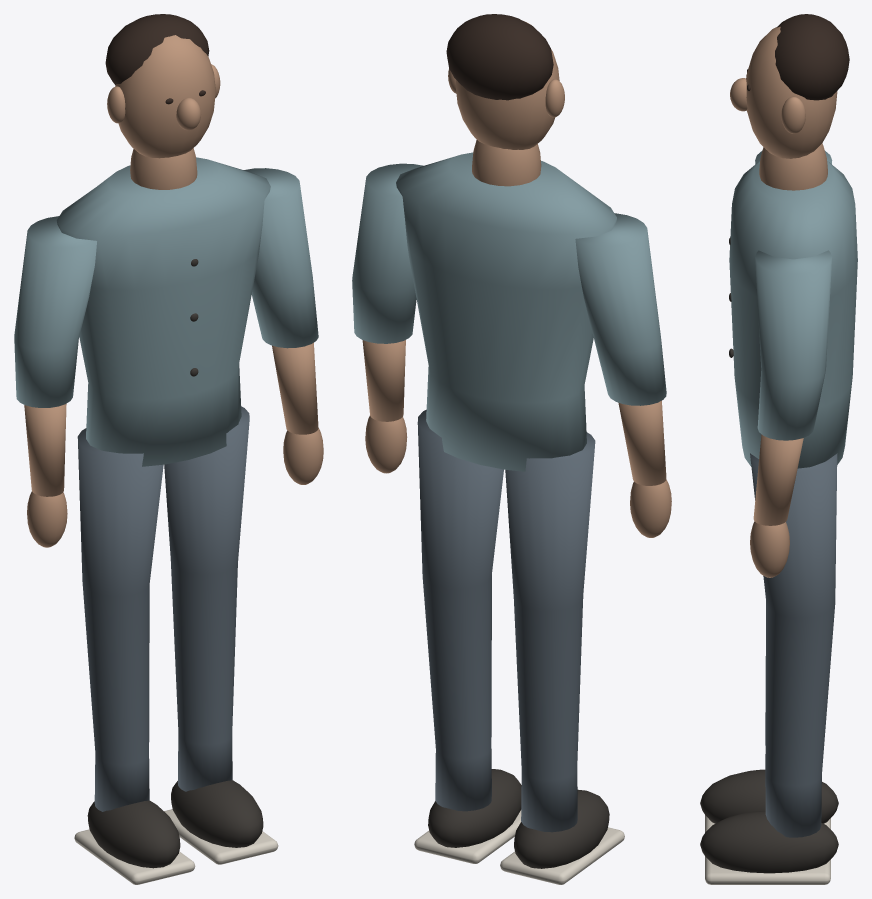
Rendered from pedestrian.glb.
The picture shows the model from 3 angles, left to right: view 1: azimuth 30°, elevation 25°; view 2: azimuth 150°, elevation 25°; view 3: azimuth 270°, elevation 25°; orthographic projection. The views are drawn at different scales.
Parts seen in each view (by area): view 1: Torso, TrouserL, TrouserR, SleeveL, SleeveR, Head, ShoeR, ShoeL, Hair, ForearmL, ForearmR, Neck (+5 smaller); view 2: Torso, TrouserL, TrouserR, SleeveL, SleeveR, Hair, Head, ShoeL, ShoeR, ForearmL, ForearmR, Neck (+4 smaller); view 3: TrouserR, Torso, SleeveR, ShoeR, Head, Hair, ForearmR, ShoeL, Neck, SoleR, HandR, Ear.001 (+1 smaller).
Boxes of the visible parts, <box> form: Torso: <box>56,157,270,466</box>; TrouserL: <box>77,428,163,811</box>; TrouserR: <box>164,406,249,791</box>; SleeveL: <box>14,216,96,407</box>; SleeveR: <box>244,168,318,348</box>; Head: <box>115,35,215,158</box>; ShoeR: <box>171,780,263,847</box>; ShoeL: <box>87,800,180,868</box>; Hair: <box>105,14,209,85</box>; ForearmL: <box>24,403,66,496</box>; ForearmR: <box>272,342,318,434</box>; Neck: <box>130,148,197,189</box>; Torso: <box>396,152,616,471</box>; TrouserL: <box>505,432,595,832</box>; TrouserR: <box>417,409,503,811</box>; SleeveL: <box>575,213,666,405</box>; SleeveR: <box>352,163,423,343</box>; Hair: <box>446,14,553,100</box>; Head: <box>455,21,559,149</box>; ShoeL: <box>514,789,609,868</box>; ShoeR: <box>428,769,521,847</box>; ForearmL: <box>618,400,666,485</box>; ForearmR: <box>362,340,405,421</box>; Neck: <box>472,140,541,186</box>; TrouserR: <box>750,453,837,837</box>; Torso: <box>729,161,857,468</box>; SleeveR: <box>755,250,832,440</box>; ShoeR: <box>700,811,838,873</box>; Head: <box>746,26,837,158</box>; Hair: <box>775,14,849,100</box>; ForearmR: <box>753,434,803,525</box>; ShoeL: <box>700,769,838,823</box>; Neck: <box>759,143,827,190</box>; SoleR: <box>705,856,830,884</box>; HandR: <box>750,521,789,577</box>; Ear.001: <box>781,96,805,133</box>.
Size of the model in its own units: 0.676 by 1.79 by 0.307.
